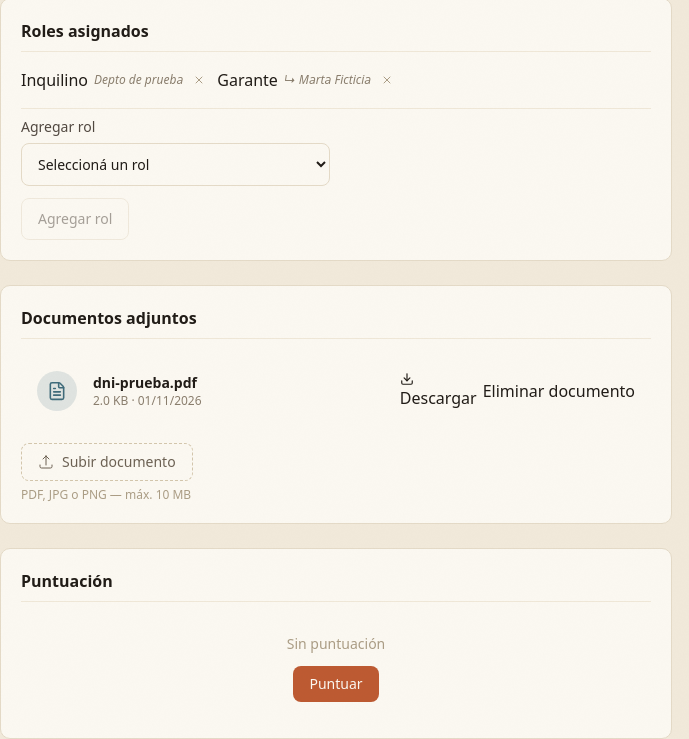
Test: PersonDetailPage › puntúa a una persona sin puntuación
(page scrolled)
Click the button "Puntuar": (336, 684) [293,666,378,702]
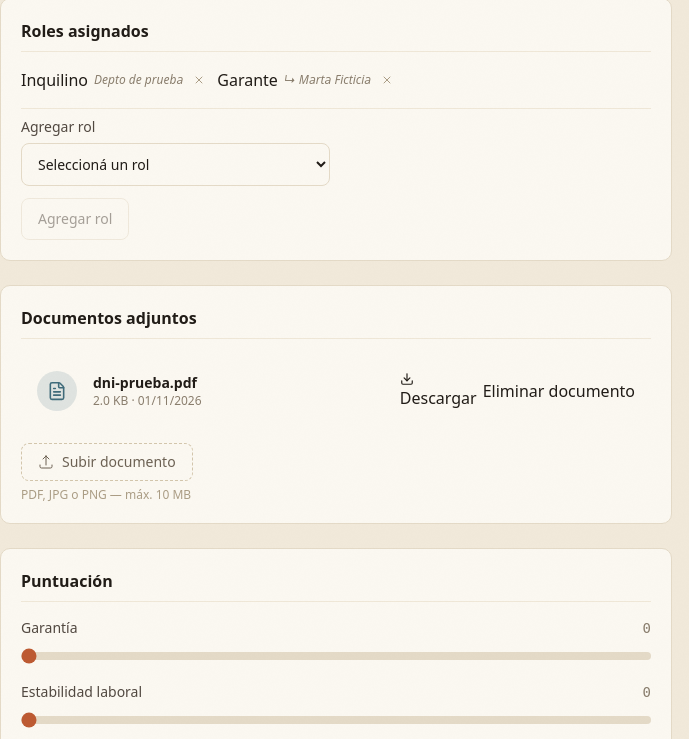
Set the slider labelled "Garantía" to "90": (582, 656) [21,652,651,660]
(page scrolled)
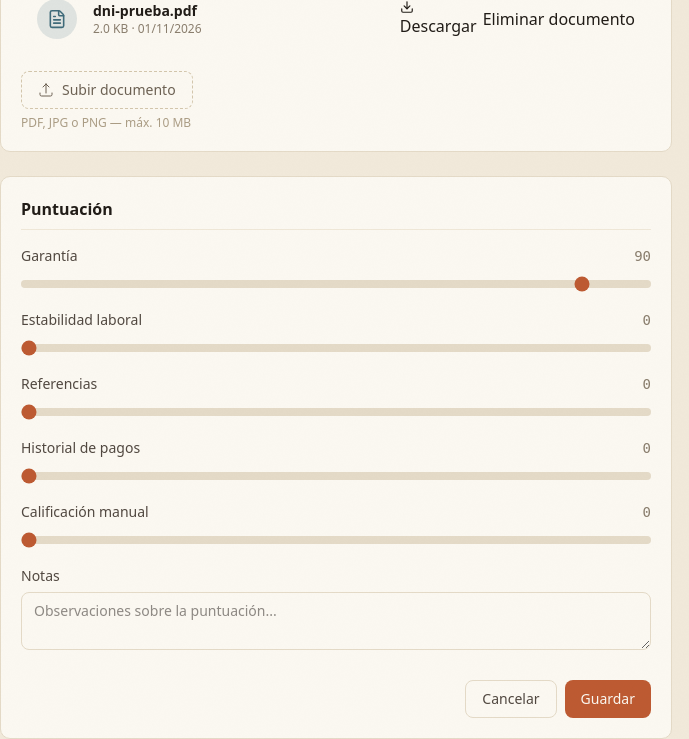
In the text box labelled "Notas": (336, 621) [21,592,651,650], type "Buena"
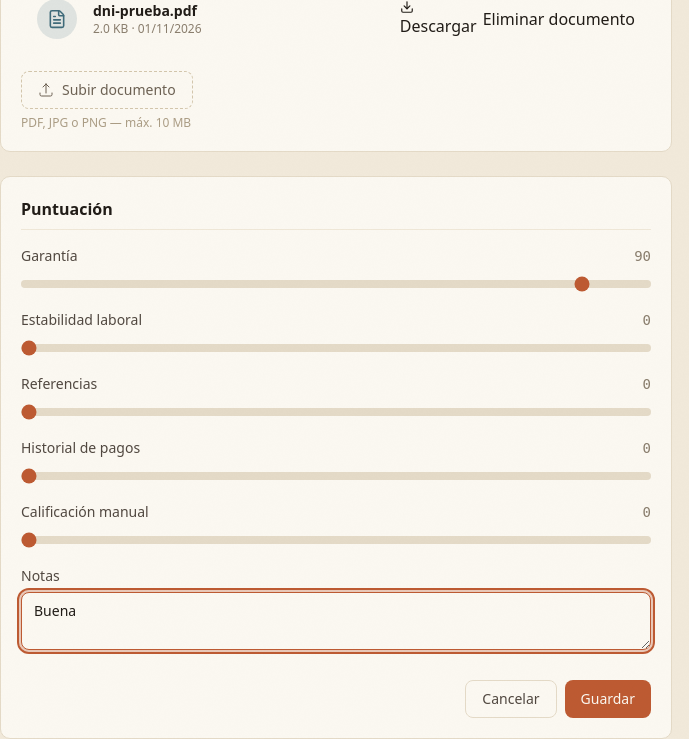
Click the button "Guardar": (608, 699) [564,680,651,718]
(page scrolled)
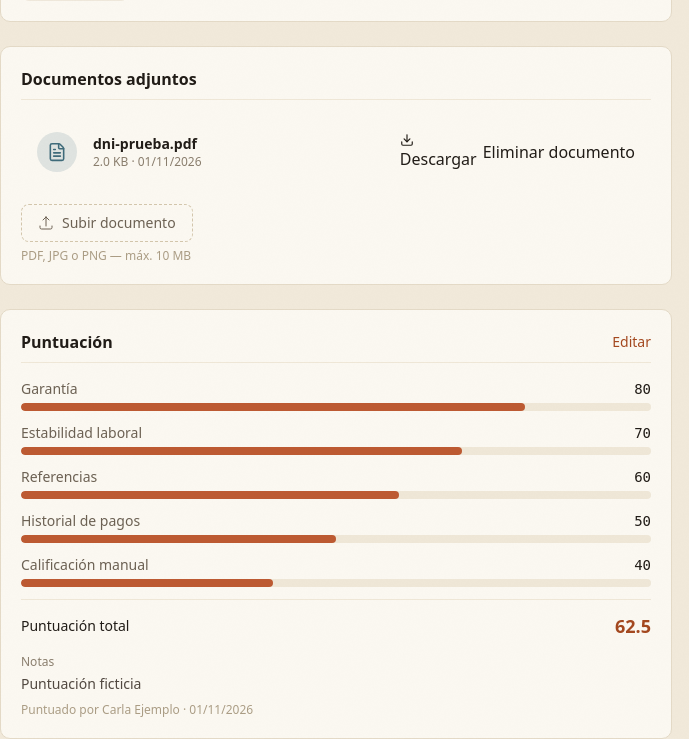
Now the text "62.5" is shown, box [615,612,651,640]
